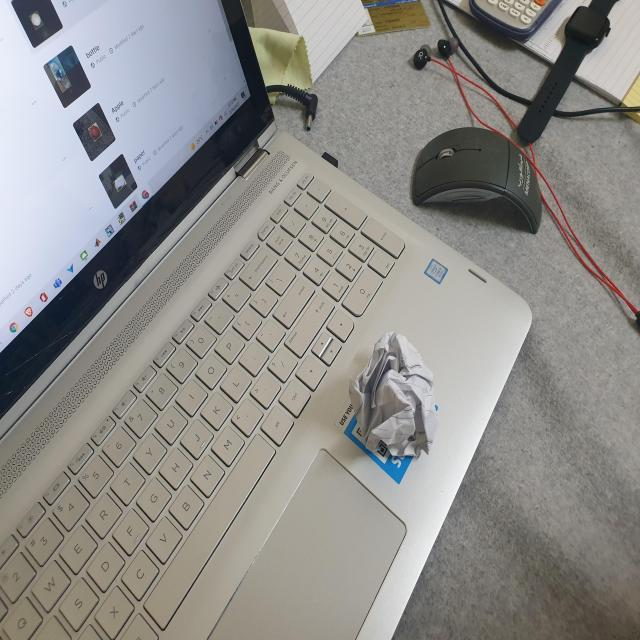trash: (346, 320, 444, 468)
